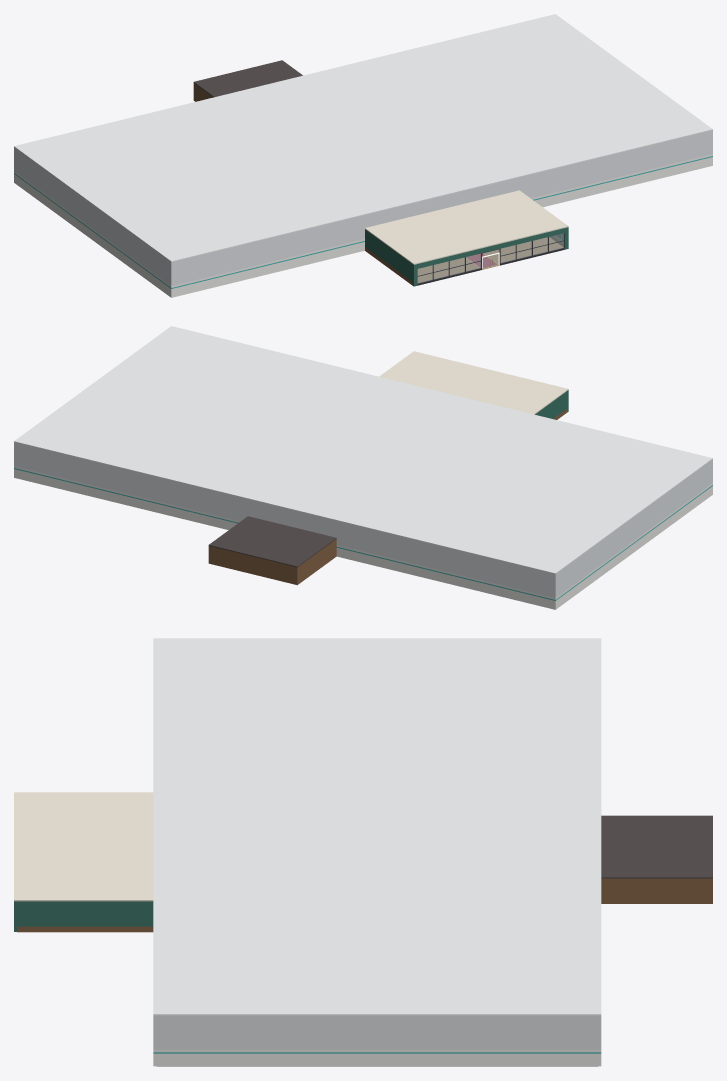
The model's file is WChewsHall_02.glb.
3 views of the same model, one above another, from view 1: azimuth 30°, elevation 25°; view 2: azimuth 150°, elevation 25°; view 3: azimuth 270°, elevation 25° (orthographic). The views are drawn at different scales.
Visible parts, largest first — view 1: WChewsHall_Ceiling, WChewsHall_WallUpper, WChewsHall_FrontCeiling, WChewsHall_WallTile, WChewsHall_FrontGlass, WChewsHall_FrontWalls, WChewsHall_BackCeiling, WChewsHall_FrontFloor, WChewsHall_WallAccent, WChewsHall_FrontMullions; view 2: WChewsHall_Ceiling, WChewsHall_WallUpper, WChewsHall_WallTile, WChewsHall_FrontCeiling, WChewsHall_BackCeiling, WChewsHall_BackWalls, WChewsHall_WallAccent, WChewsHall_FrontWalls; view 3: WChewsHall_Ceiling, WChewsHall_FrontCeiling, WChewsHall_WallUpper, WChewsHall_WallTile, WChewsHall_BackCeiling, WChewsHall_FrontWalls, WChewsHall_BackWalls, WChewsHall_WallAccent, WChewsHall_FrontWainscot.
Part boxes in pixels (left/top/right/bottom): WChewsHall_Ceiling: left=14, top=14, right=712, bottom=262; WChewsHall_WallUpper: left=14, top=130, right=712, bottom=285; WChewsHall_FrontCeiling: left=365, top=190, right=568, bottom=264; WChewsHall_WallTile: left=14, top=154, right=712, bottom=297; WChewsHall_FrontGlass: left=417, top=233, right=563, bottom=283; WChewsHall_FrontWalls: left=365, top=227, right=568, bottom=286; WChewsHall_BackCeiling: left=193, top=60, right=302, bottom=97; WChewsHall_FrontFloor: left=417, top=237, right=563, bottom=282; WChewsHall_WallAccent: left=14, top=156, right=712, bottom=288; WChewsHall_FrontMullions: left=417, top=233, right=564, bottom=285; WChewsHall_Ceiling: left=14, top=326, right=712, bottom=574; WChewsHall_WallUpper: left=14, top=442, right=712, bottom=597; WChewsHall_WallTile: left=14, top=466, right=712, bottom=609; WChewsHall_FrontCeiling: left=379, top=351, right=568, bottom=414; WChewsHall_BackCeiling: left=208, top=516, right=336, bottom=567; WChewsHall_BackWalls: left=208, top=539, right=336, bottom=585; WChewsHall_WallAccent: left=14, top=468, right=712, bottom=600; WChewsHall_FrontWalls: left=535, top=390, right=568, bottom=418; WChewsHall_Ceiling: left=153, top=638, right=601, bottom=1015; WChewsHall_FrontCeiling: left=14, top=792, right=153, bottom=901; WChewsHall_WallUpper: left=153, top=1016, right=601, bottom=1049; WChewsHall_WallTile: left=153, top=1049, right=601, bottom=1066; WChewsHall_BackCeiling: left=601, top=815, right=712, bottom=878; WChewsHall_FrontWalls: left=14, top=901, right=153, bottom=931; WChewsHall_BackWalls: left=601, top=878, right=712, bottom=903; WChewsHall_WallAccent: left=153, top=1052, right=601, bottom=1053; WChewsHall_FrontWainscot: left=17, top=926, right=153, bottom=931.
Size of the model in its own units: 574 by 38 by 451.
